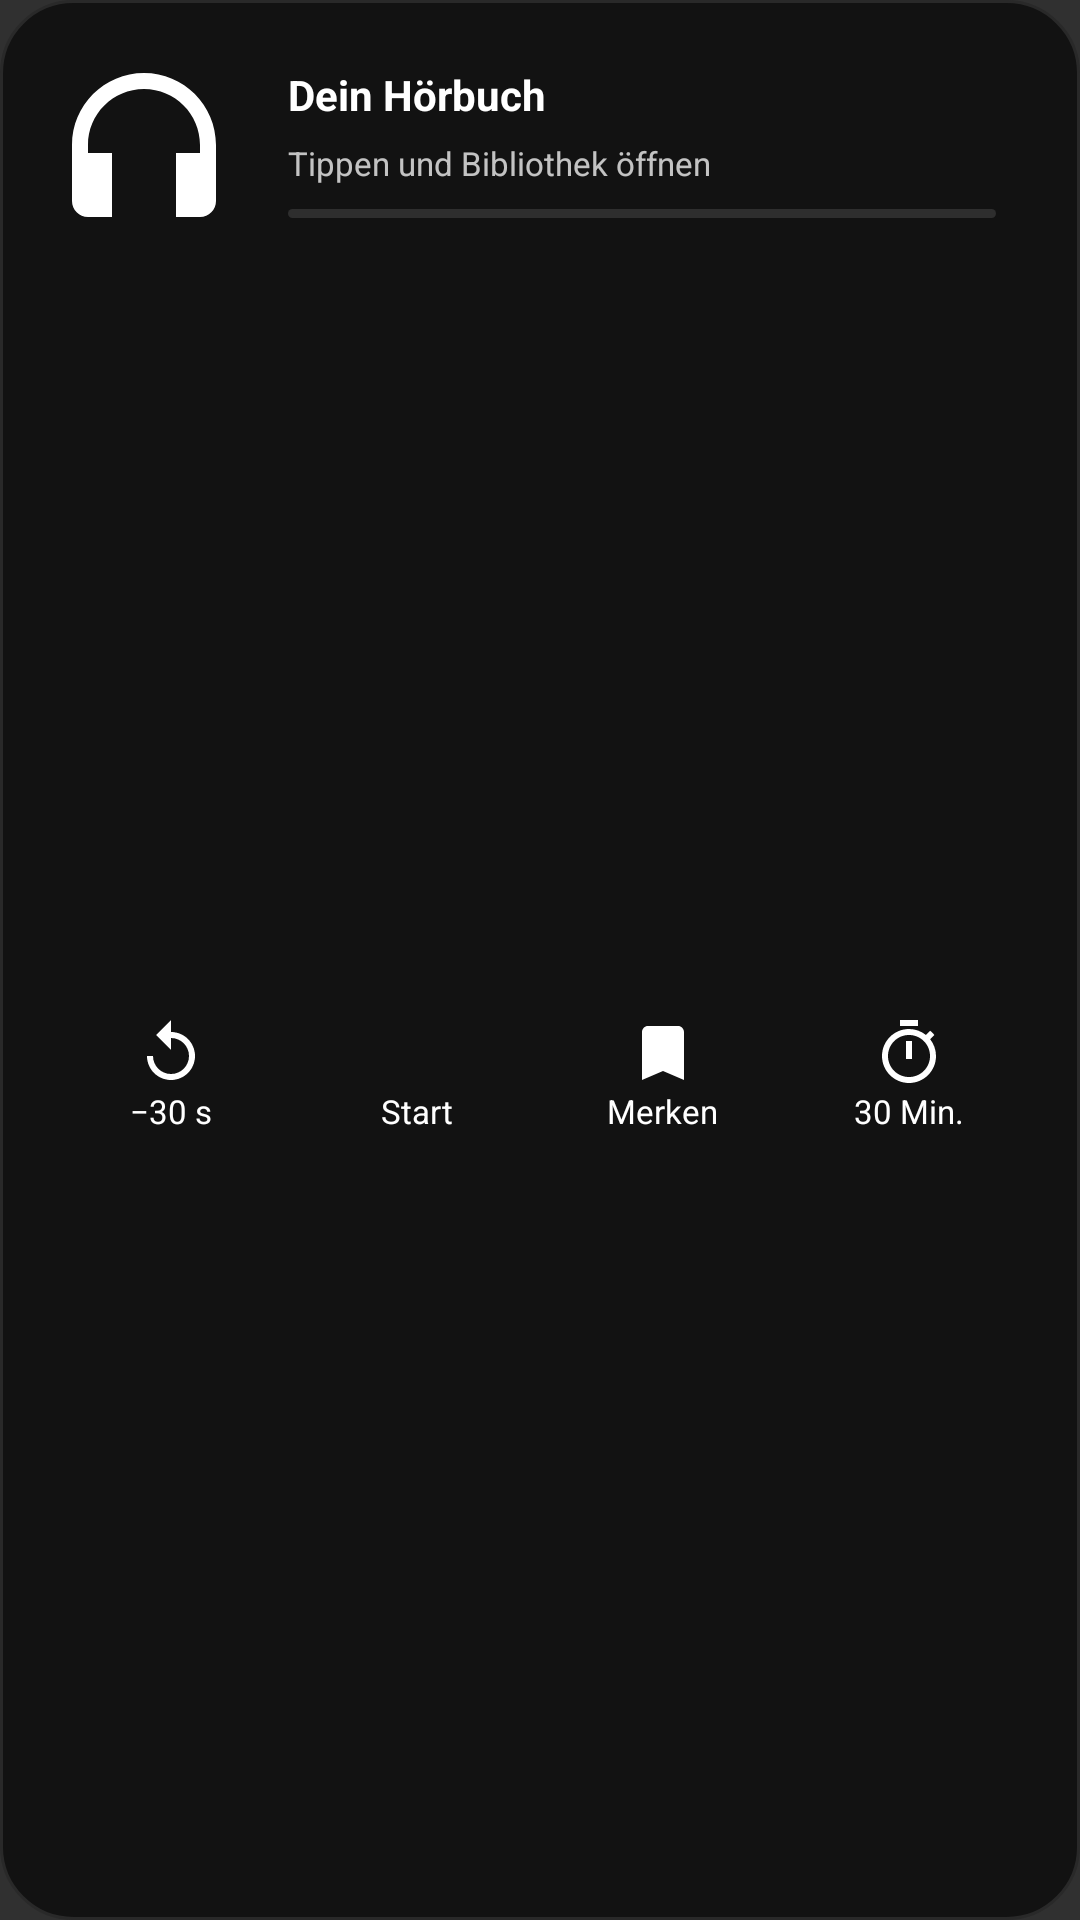

Icon bounding boxes for this 1080×1920 phone screenshot, format detection(x1, y1, x2, y2):
widget back tidal: detection(147, 1020, 195, 1080)
widget headphones tidal: detection(72, 73, 216, 217)
widget timer tidal: detection(882, 1020, 936, 1083)
